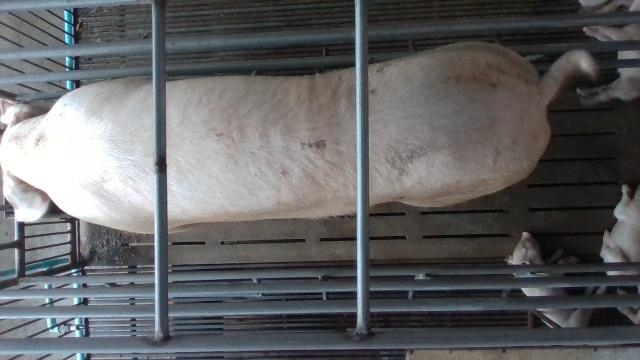piglet: (502, 232, 605, 328), (578, 0, 640, 106), (601, 179, 640, 275)
sow-stand-feed: (0, 43, 597, 235)
